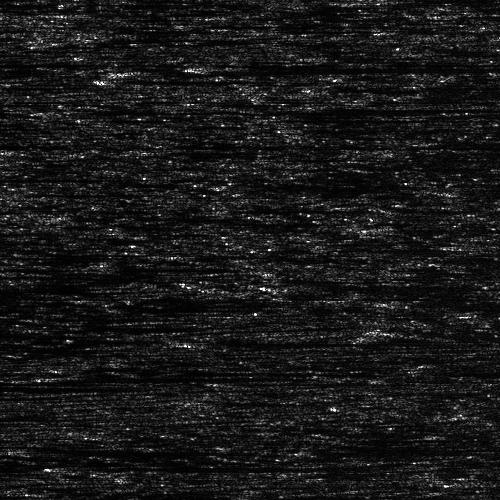rock: (0, 99, 202, 118), (349, 290, 442, 311), (175, 61, 248, 70), (153, 336, 226, 345), (0, 444, 53, 453), (12, 373, 75, 380), (445, 479, 498, 484), (456, 243, 500, 248), (109, 72, 120, 85)
shadow: (93, 99, 427, 118), (212, 61, 500, 70), (396, 290, 500, 311), (190, 336, 405, 345), (17, 444, 228, 453), (115, 72, 251, 85), (0, 380, 92, 397), (44, 373, 251, 380), (0, 174, 82, 183), (472, 479, 500, 484), (0, 112, 20, 117)
